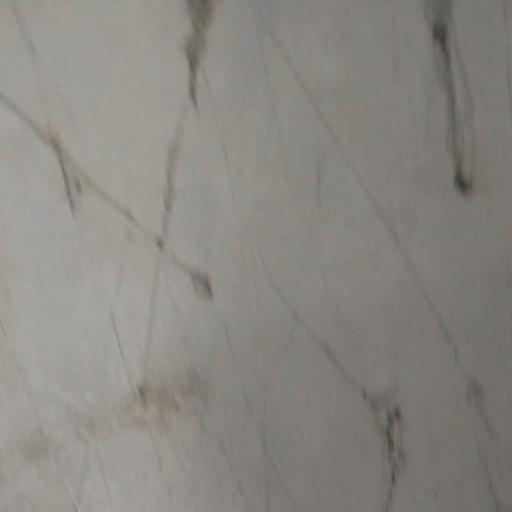stain: (24, 3, 511, 512)
